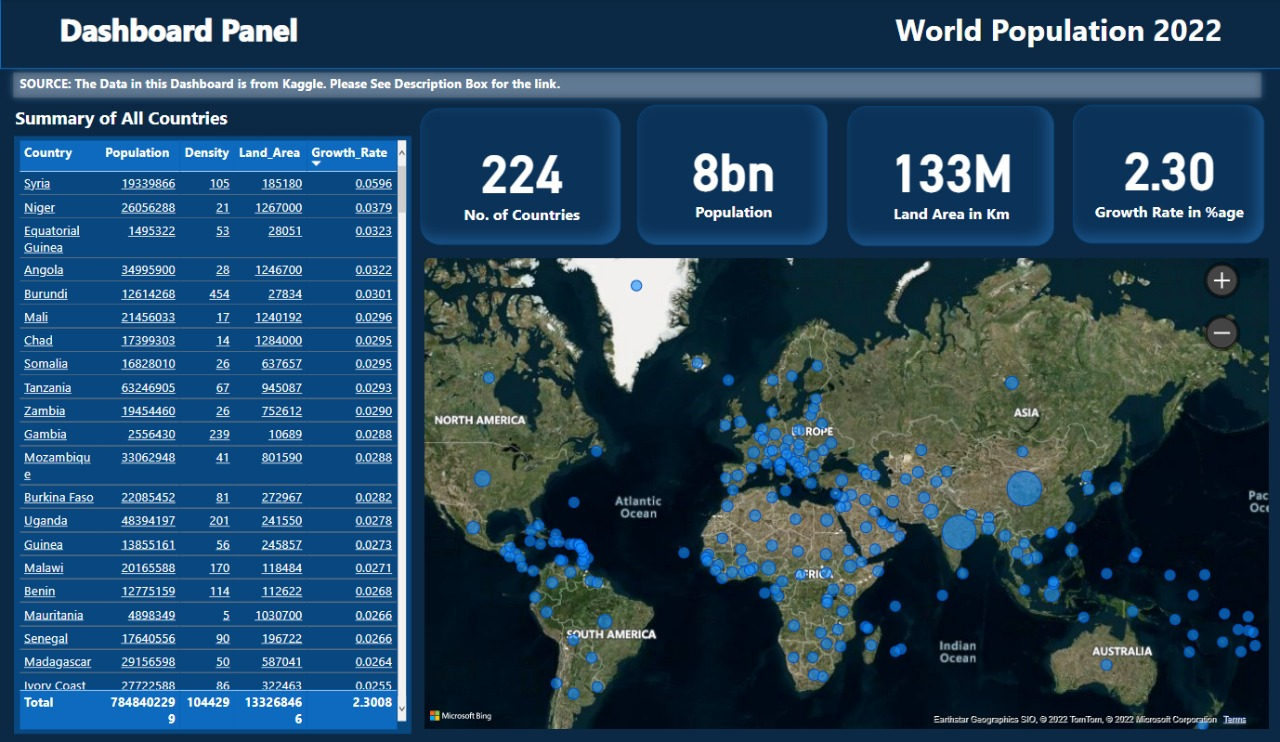

The page's visual inventory and layout, read from the dashboard file:
{"tool":"powerbi","page":{"name":"Summary","canvas":[1367,800],"ordinal":0},"visuals":[{"type":"shape","box":[6.2,70.5,1344.9,42.6],"z":0,"group":"g1"},{"type":"shape","box":[0,0,1366.3,74.2],"z":0},{"type":"textbox","box":[16.6,75.1,1344.9,35],"z":1000,"group":"g1"},{"type":"textbox","box":[50.7,4.9,279.4,64.3],"z":1000},{"type":"textbox","box":[918.7,4.9,417.9,64.3],"z":2000},{"type":"group","id":"g1","title":"Group 1","box":[6.2,70.5,1355.2,42],"z":3000},{"type":"tableEx","fields":{"Values":["2022_population.Country","Sum(2022_population.2022_Population)","Sum(2022_population.Density_per_Sq_km)","Sum(2022_population.Land_Area)","Sum(2022_population.Growth_Rate)"]},"box":[14.8,145.9,422.9,636.8],"z":4000},{"type":"textbox","box":[11.1,108.8,273.3,35.9],"z":5000},{"type":"card","title":"pop","fields":{"Values":["Sum(2022_population.Population)"]},"box":[678.8,112.5,202.8,149.6],"z":6000},{"type":"card","title":"pop","fields":{"Values":["CountNonNull(2022_population.Country)"]},"box":[447.6,116.2,213.9,145.9],"z":7000},{"type":"card","title":"pop","fields":{"Values":["Sum(2022_population.Land_Area)"]},"box":[902.6,113.8,220.1,149.6],"z":8000},{"type":"card","title":"pop","fields":{"Values":["Sum(2022_population.Growth_Rate)"]},"box":[1142.5,112.5,204,148.4],"z":9000},{"type":"map","fields":{"Category":["2022_population.Country"],"Size":["Sum(2022_population.Population)"]},"box":[447.6,270.8,908.8,511.9],"z":10000}]}

Visuals, with their boxes in screenshot pixels (x1, y1, x2, y2), scaled from the page's 1367x800 canvas onto the 1280x742 screenshot:
shape: bbox(6, 65, 1265, 105)
shape: bbox(0, 0, 1279, 69)
textbox: bbox(16, 70, 1275, 102)
textbox: bbox(47, 5, 309, 64)
textbox: bbox(860, 5, 1252, 64)
"Group 1" group: bbox(6, 65, 1275, 104)
tableEx - 2022_population.Country x Sum(2022_population.2022_Population): bbox(14, 135, 410, 726)
textbox: bbox(10, 101, 266, 134)
"pop" card: bbox(636, 104, 825, 243)
"pop" card: bbox(419, 108, 619, 243)
"pop" card: bbox(845, 106, 1051, 244)
"pop" card: bbox(1070, 104, 1261, 242)
map - 2022_population.Country x Sum(2022_population.Population): bbox(419, 251, 1270, 726)
